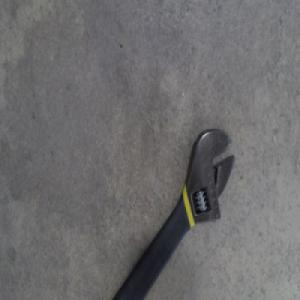AdjustableWrench: (110, 129, 236, 299)
